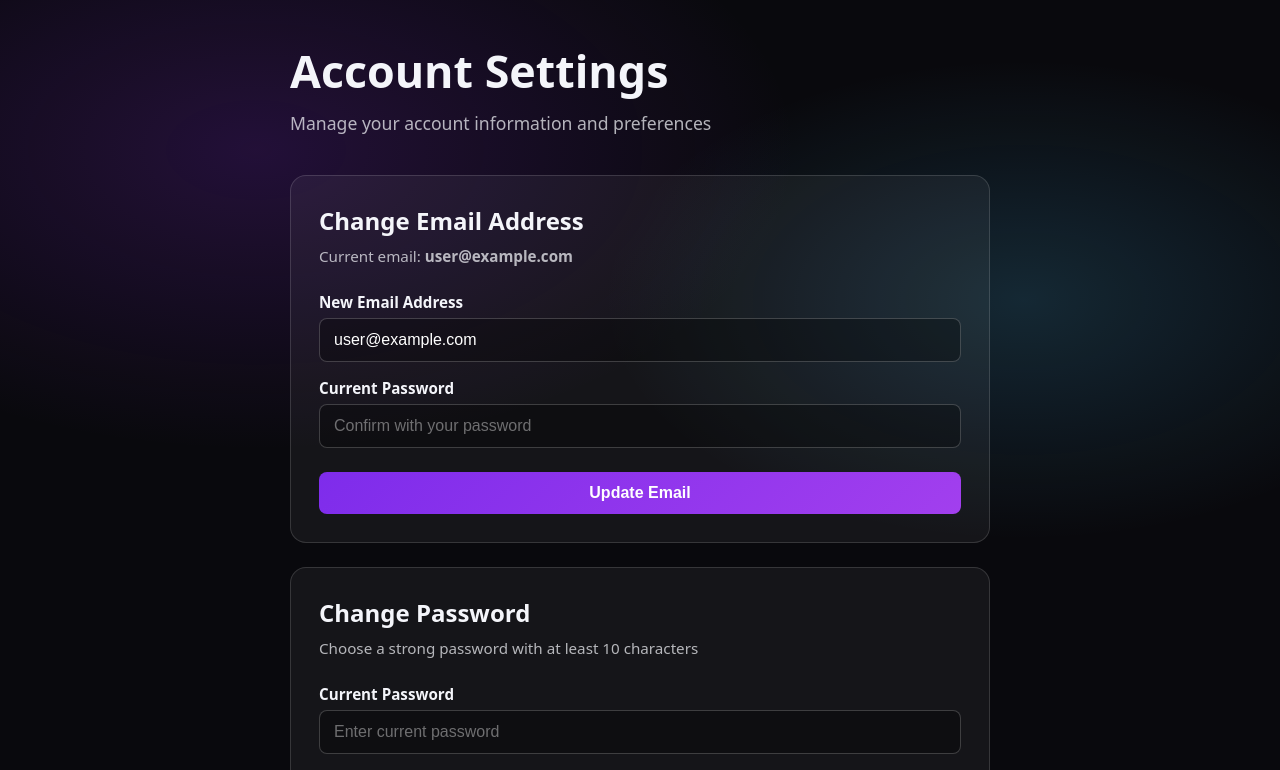
Test: Account › updates email and reflects the new email on success
Expected: the heading "Account Settings" is shown, 290,40 -> 668,101
Replace the text in the field labelled "New Email Address" with "new-email@example.com" at (640, 340), box 319,318 -> 961,362
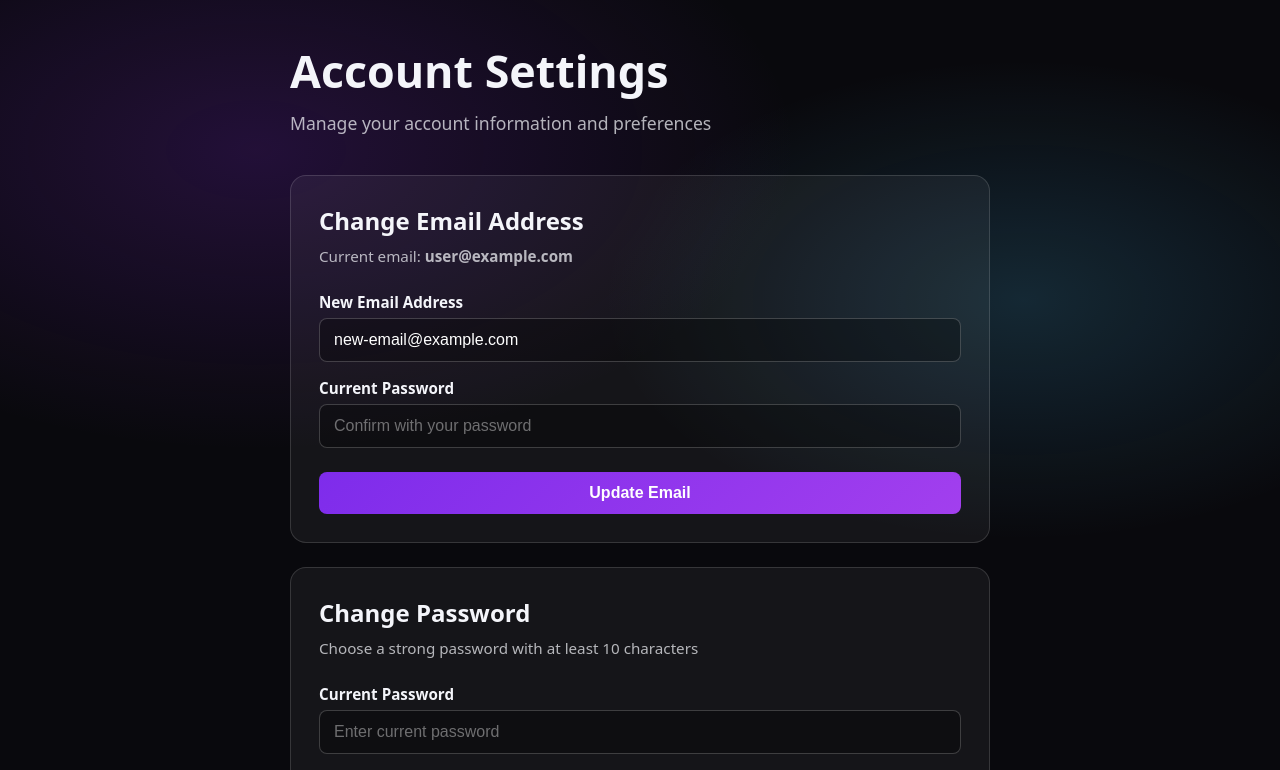
Type "secure-password" into the password field labelled "Current Password" below "New Email Address".
click(640, 426); type("secure-password")  # box 319,404 -> 961,448
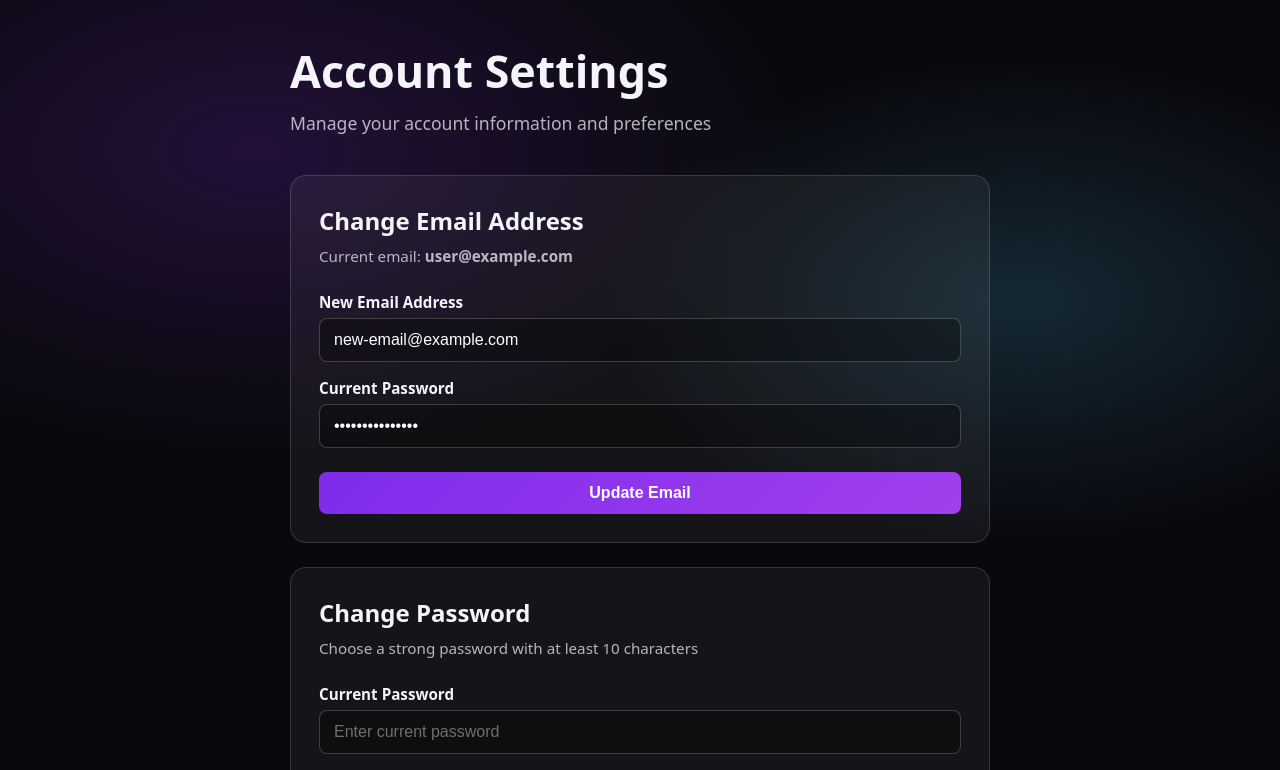
Click the button "Update Email".
click(640, 493)  # box 319,472 -> 961,514
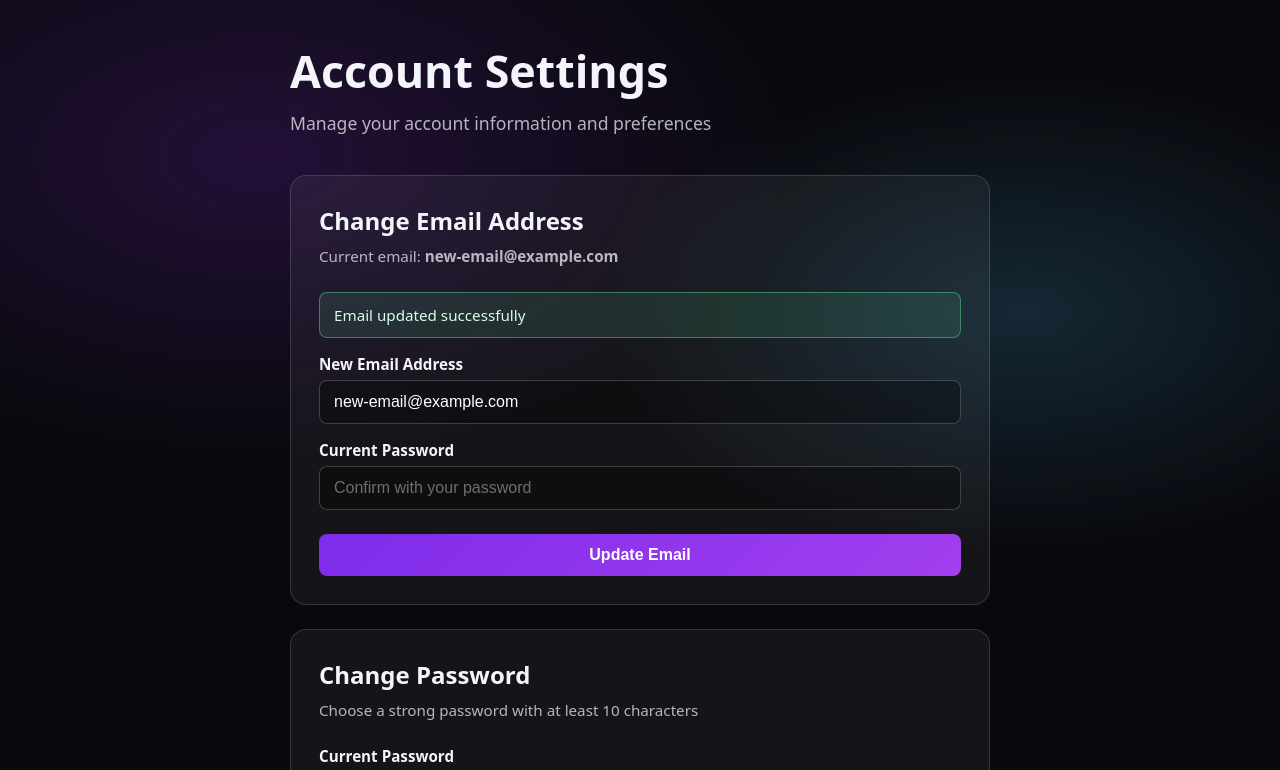
Expected: the text "Email updated successfully" is shown, 319,292 -> 961,338
Expected: the text "new-email@example.com" is shown, 425,246 -> 618,266
